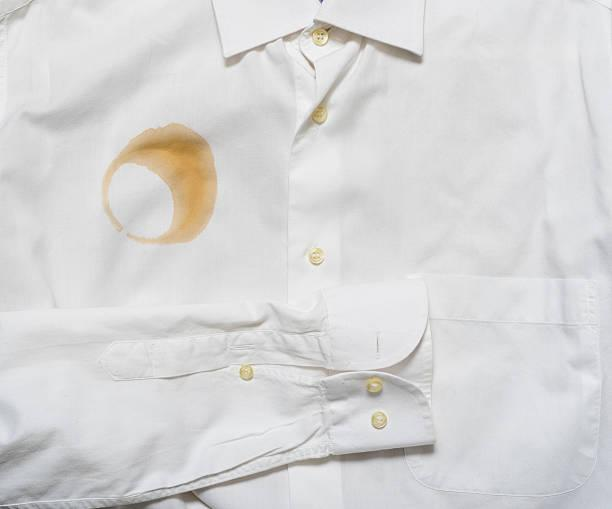gun: (99, 128, 225, 248)
